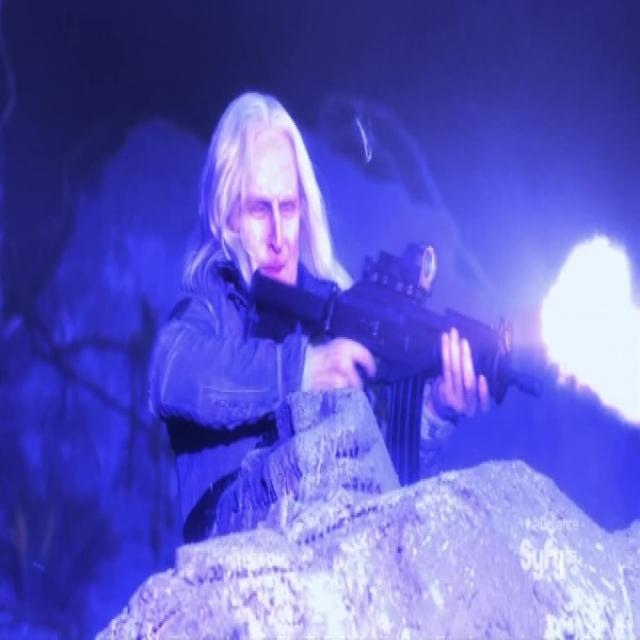rifle: (246, 247, 548, 490)
